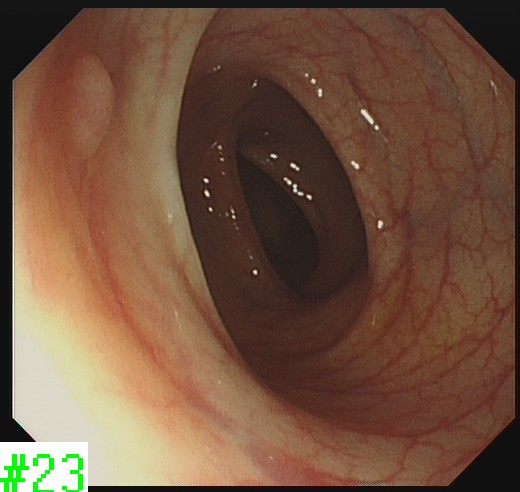adenoma: (62, 47, 117, 163)
